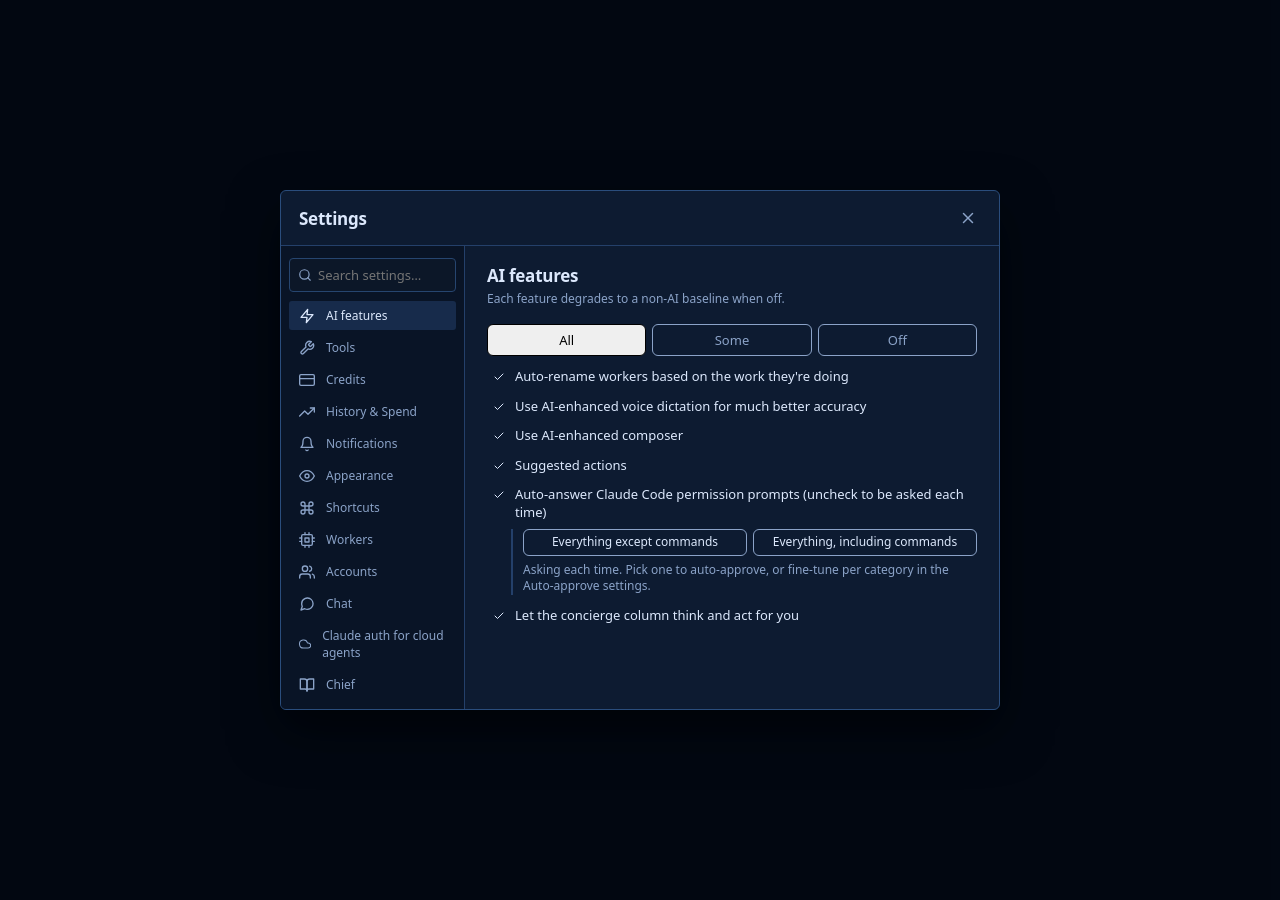
Test: SettingsDialog — rail search › does NOT surface Tools for terms that live in different rows
This screenshot has width=1280, height=900.
Type "deepgram beads" into the field labelled "Search settings" at (372, 275), box top-left (289, 258), bottom-right (456, 292)
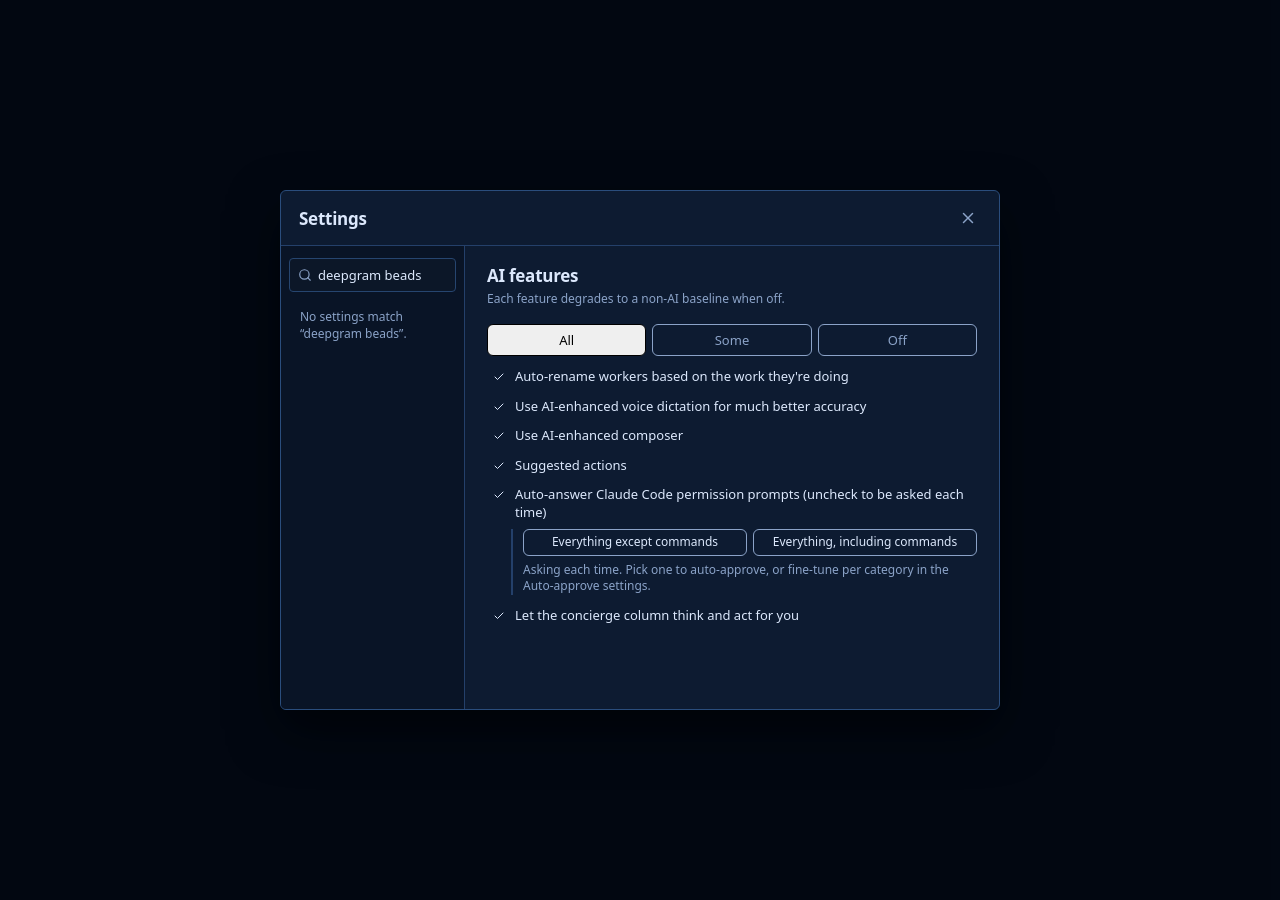
Check: the button "Tools" is gone
Note: …while a query inside a single row still surfaces it.
Replace the text in the field named "Search settings" with "deepgram dictation" at (372, 275), box top-left (289, 258), bottom-right (456, 292)
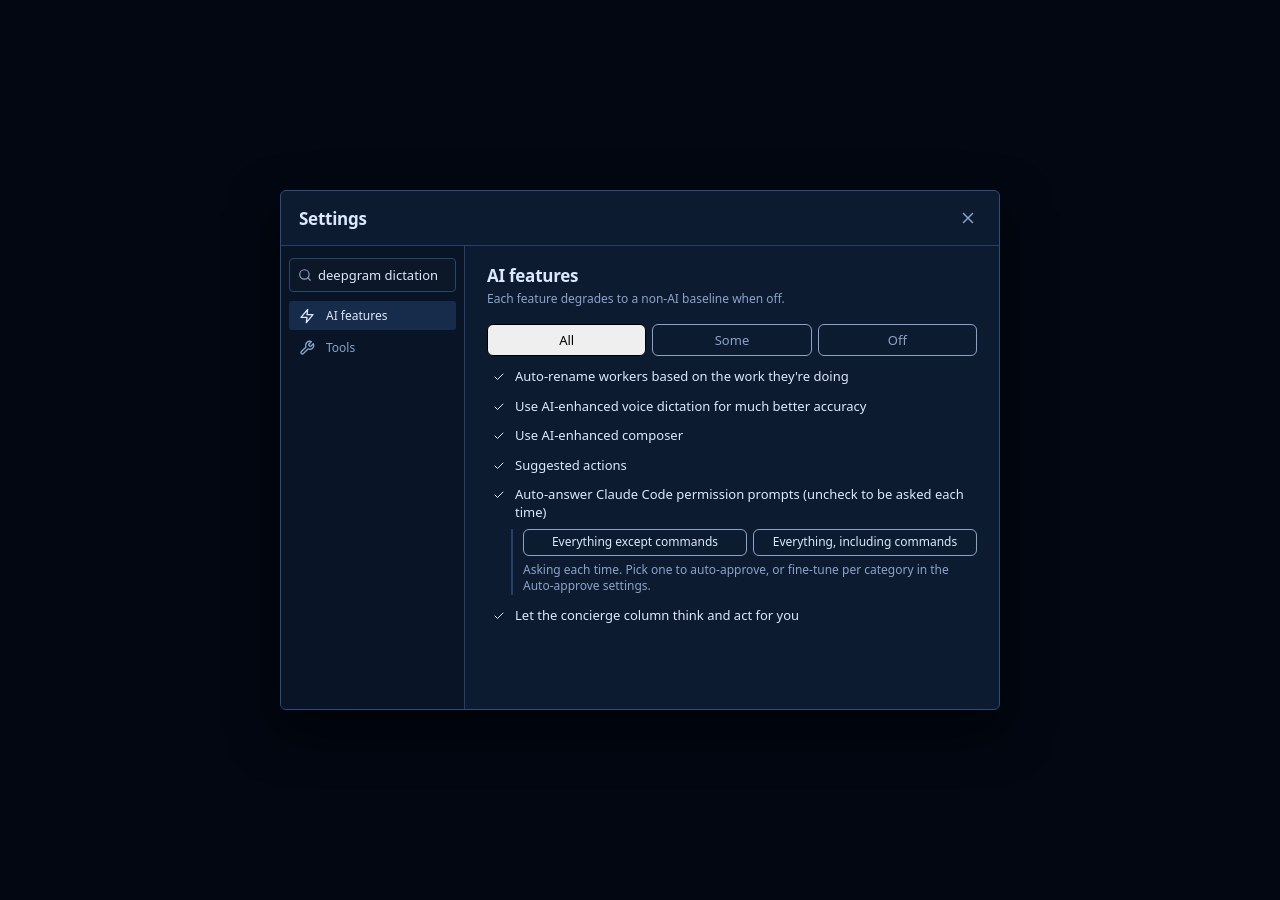
Check: the button "Tools" is shown, box top-left (289, 333), bottom-right (456, 362)
